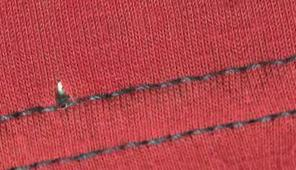hole: (52, 77, 69, 95)
